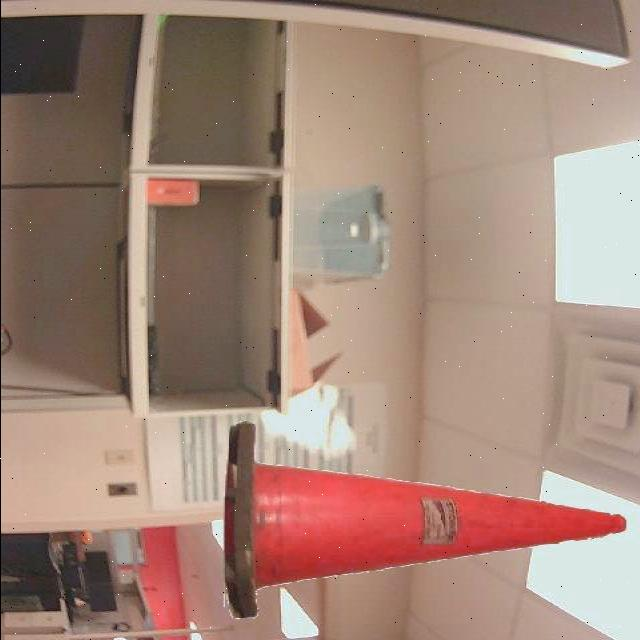traffic cone: (216, 417, 632, 631)
